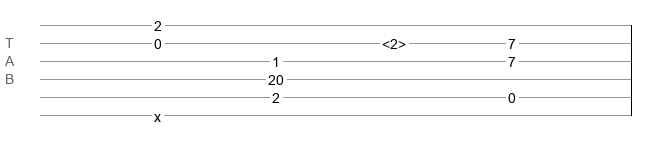0: (154, 36, 162, 46), (508, 90, 516, 100)
1: (272, 54, 280, 64)
2: (154, 18, 162, 28), (272, 90, 280, 100)
20: (268, 72, 284, 82)
7: (508, 36, 516, 46), (508, 54, 516, 64)
harmonic: (382, 36, 406, 46)
x: (154, 109, 161, 117)
